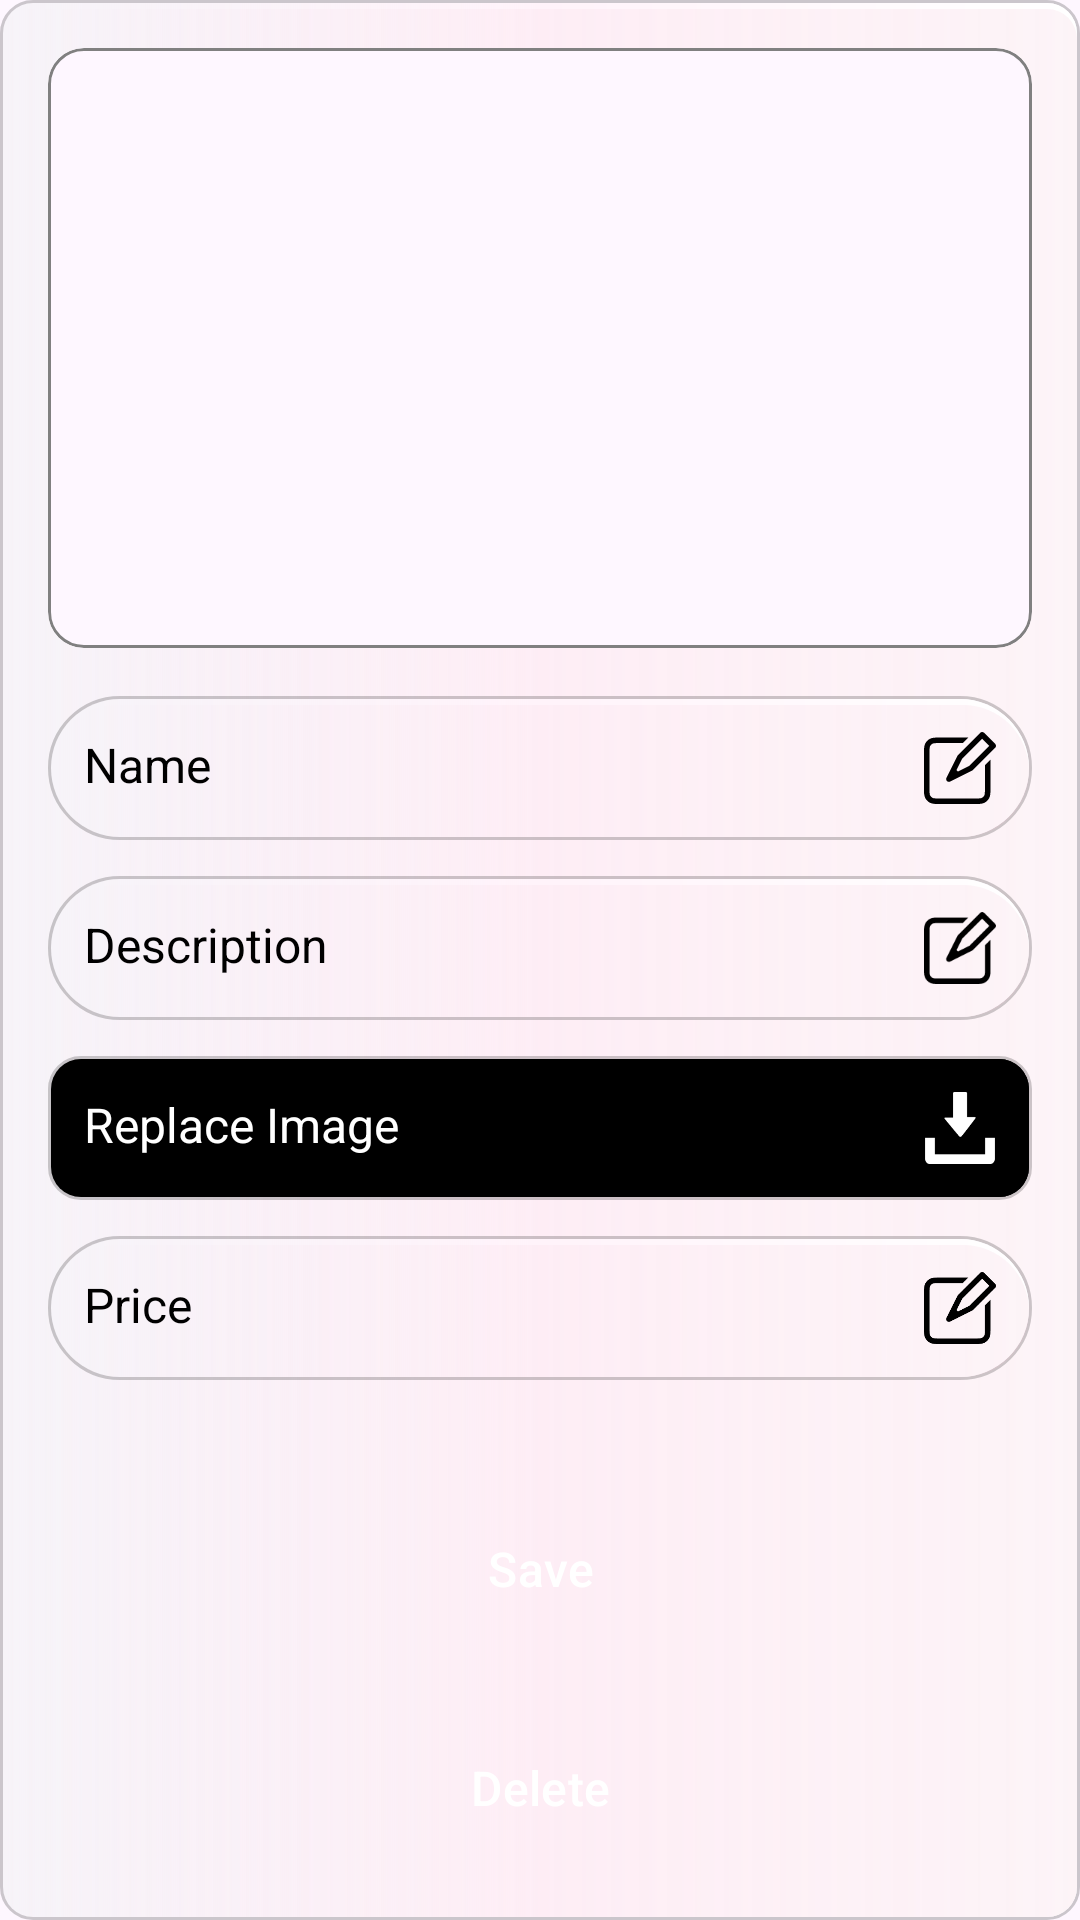

Locate icon controls on the screen. Image size 1080px x 1920px, boxes as {"left": x1, "top": y1, "right": x2, "bottom": y2}.
edit note: {"left": 924, "top": 732, "right": 996, "bottom": 804}, {"left": 924, "top": 912, "right": 996, "bottom": 984}, {"left": 924, "top": 1272, "right": 996, "bottom": 1344}
